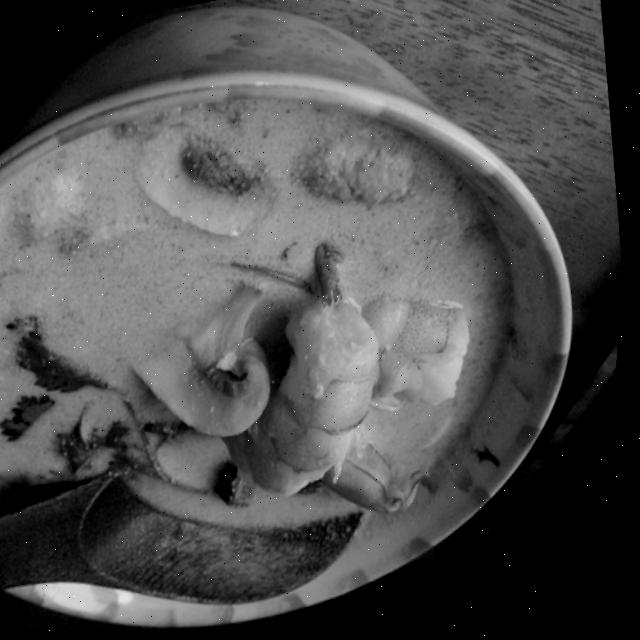汤锅炖物: (0, 0, 616, 640)
